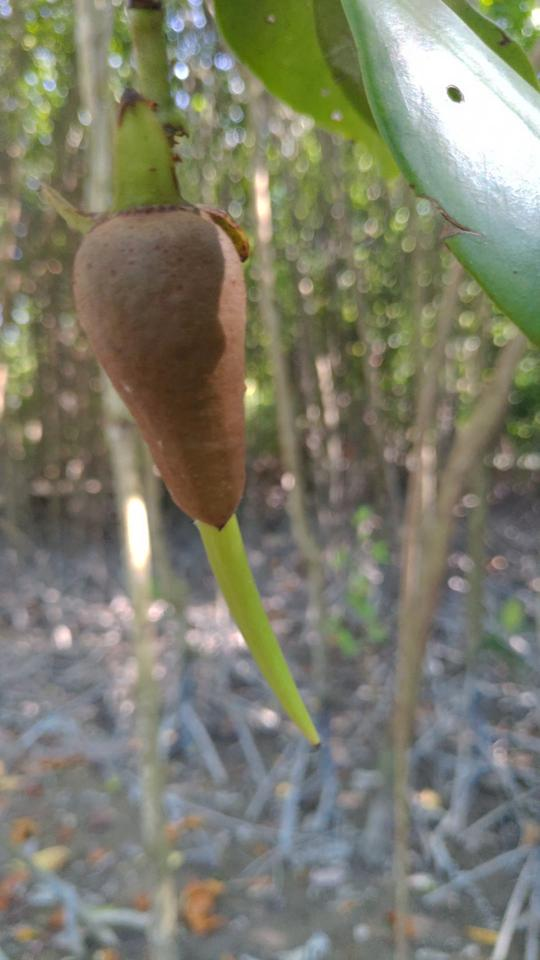mentah: (43, 97, 348, 766)
